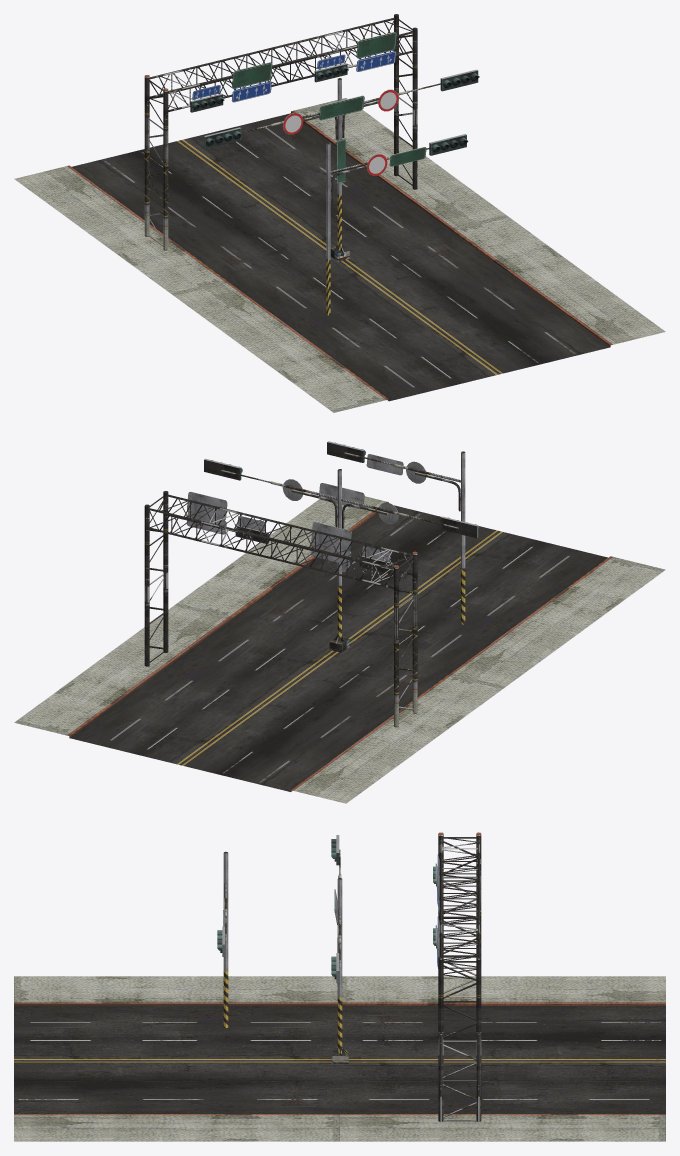
File: road.glb
3 renders of one model, top to bottom at view 1: azimuth 30°, elevation 25°; view 2: azimuth 150°, elevation 25°; view 3: azimuth 270°, elevation 25°, orthographic.
Parts seen in each view (by area): view 1: road_03, hang_04, hang_04_1, m_light1, s_light_1, m_light1_1; view 2: road_03, hang_04, hang_04_1, m_light1, s_light_1, m_light1_1; view 3: road_03, hang_04, m_light1, s_light_1, m_light1_1, hang_04_1.
Part boxes in pixels (x1,y1,x2,y2): road_03: (14,98,665,412); hang_04: (144,14,417,250); hang_04_1: (190,32,396,112); m_light1: (204,69,479,250); s_light_1: (326,134,468,315); m_light1_1: (241,83,440,261); road_03: (14,496,665,803); hang_04: (144,491,417,727); hang_04_1: (186,492,393,574); m_light1: (204,458,479,641); s_light_1: (327,441,465,624); m_light1_1: (221,470,458,652); road_03: (14,976,665,1141); hang_04: (438,832,481,1121); m_light1: (331,835,342,1053); s_light_1: (217,851,228,1028); m_light1_1: (332,849,348,1063); hang_04_1: (433,854,439,968).
Bounding box in the file's own units: 334 × 171 × 556.
1 material, 1 textured.
